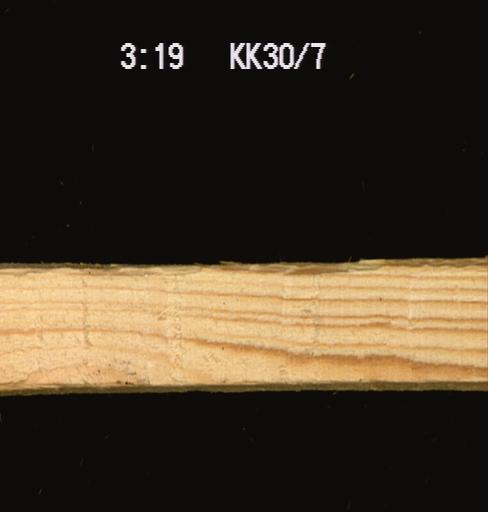wave: (0, 255, 487, 277), (7, 363, 140, 395)
